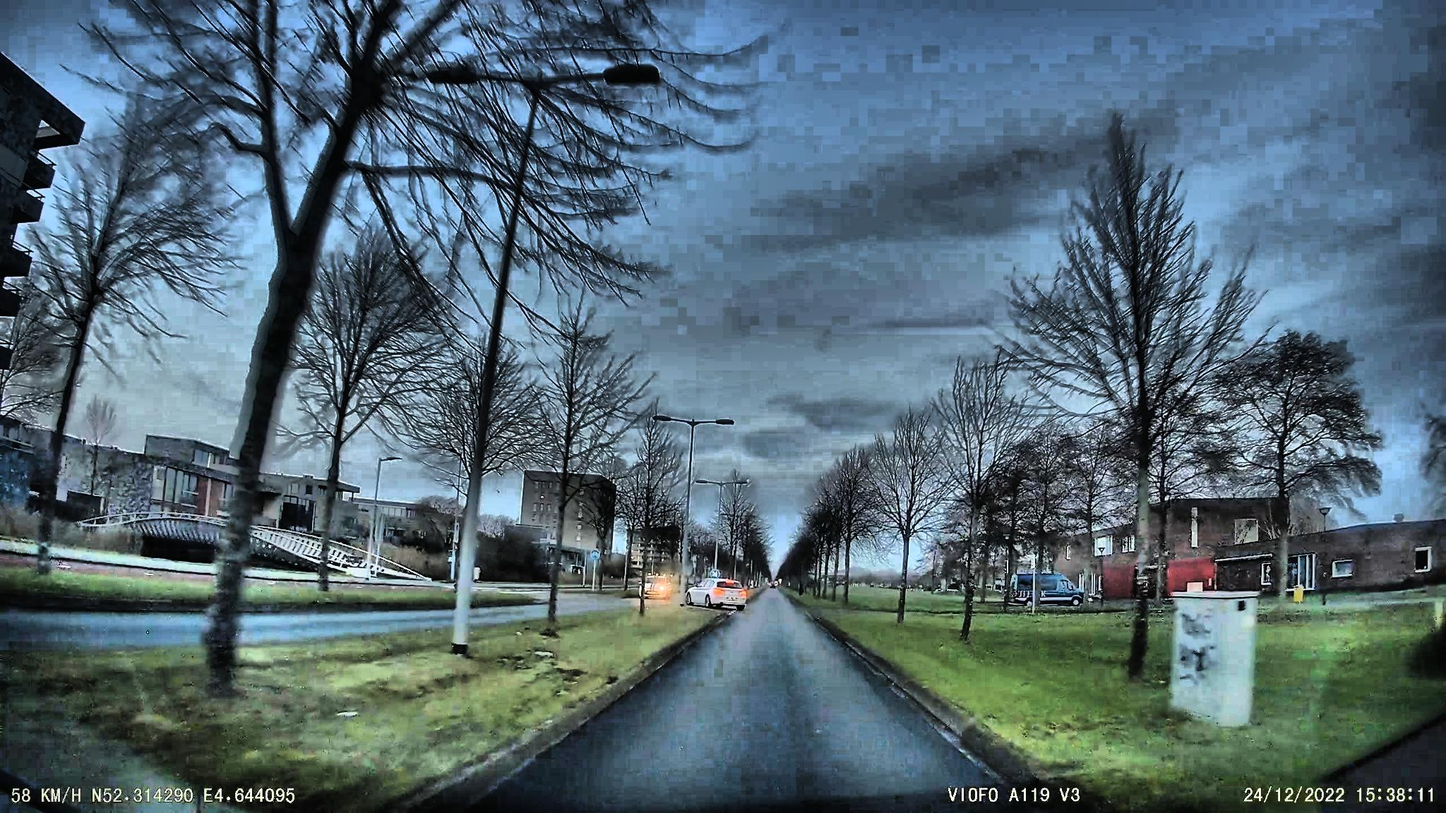Roads: (511, 602, 1029, 813)
